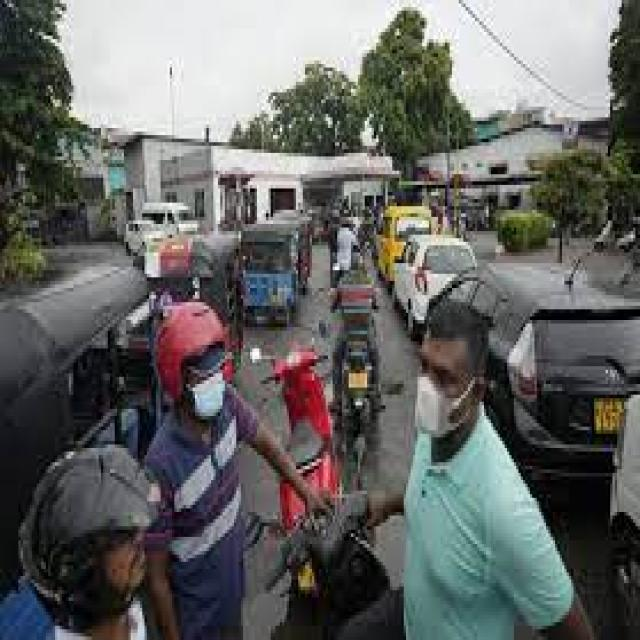car: (431, 263, 638, 487), (395, 235, 475, 338), (376, 206, 429, 288)
motorcycle: (268, 494, 404, 640), (273, 348, 335, 530), (333, 274, 378, 430)
person: (367, 302, 573, 640), (147, 306, 323, 640), (2, 452, 154, 640)
three wheeler: (0, 245, 158, 590), (145, 235, 241, 356), (241, 217, 310, 324)
